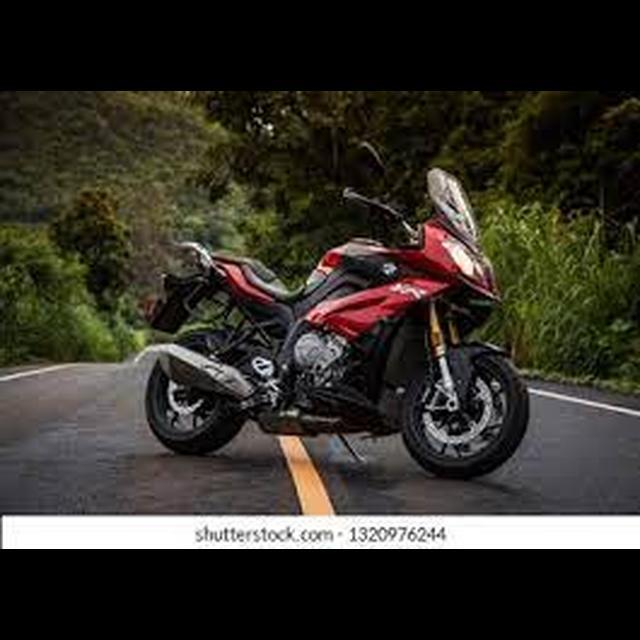motorcycle: (131, 131, 538, 487)
